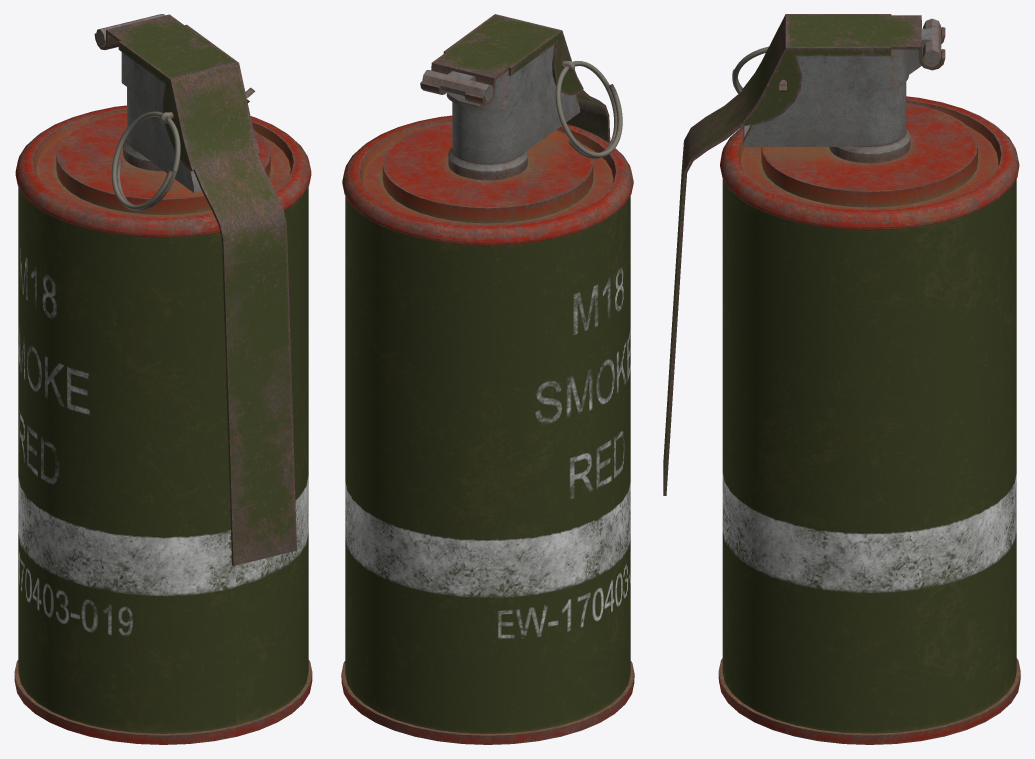
Rendered from m18_smoke_grenade.glb.
3 renders of one model, left to right at view 1: azimuth 30°, elevation 25°; view 2: azimuth 150°, elevation 25°; view 3: azimuth 270°, elevation 25°, orthographic. The views are drawn at different scales.
Visible parts, largest first — view 1: Low_Poly, Handle, Ring; view 2: Low_Poly, Handle, Ring; view 3: Low_Poly, Handle.
Boxes of the visible parts, x1,y1,x2,y2 form: Low_Poly: (14, 14, 312, 744); Handle: (94, 14, 296, 565); Ring: (111, 111, 180, 210); Low_Poly: (341, 45, 634, 744); Handle: (420, 14, 610, 142); Ring: (555, 61, 622, 158); Low_Poly: (718, 18, 1020, 744); Handle: (663, 14, 945, 495).
Bounding box in the file's own units: 0.8424 × 2 × 0.9966.
Materials: 2 (2 with a texture image).
